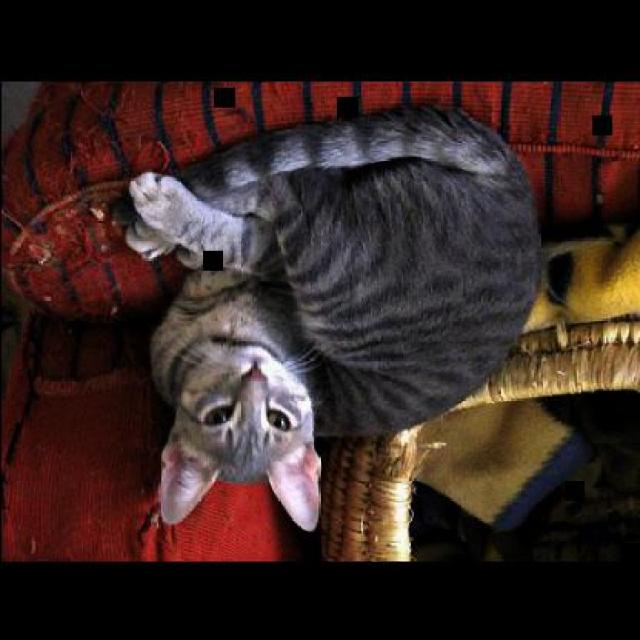unauthorized: (121, 102, 544, 530)
